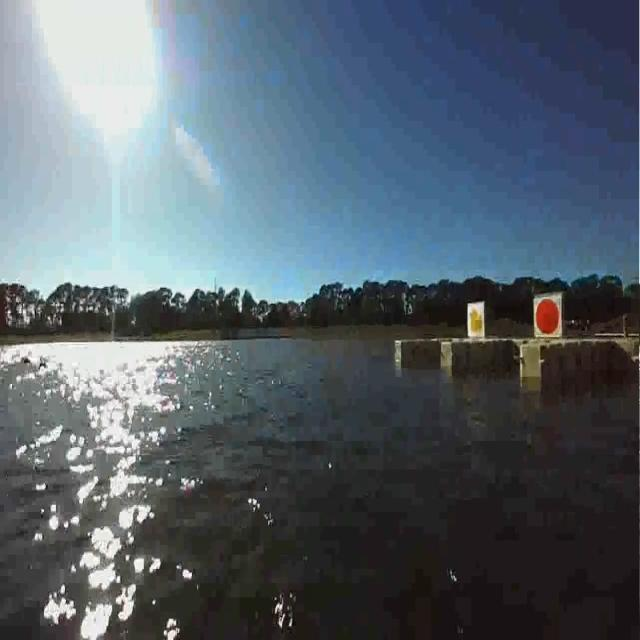red-dot: (534, 298, 566, 336)
yellow-duck: (466, 304, 486, 334)
